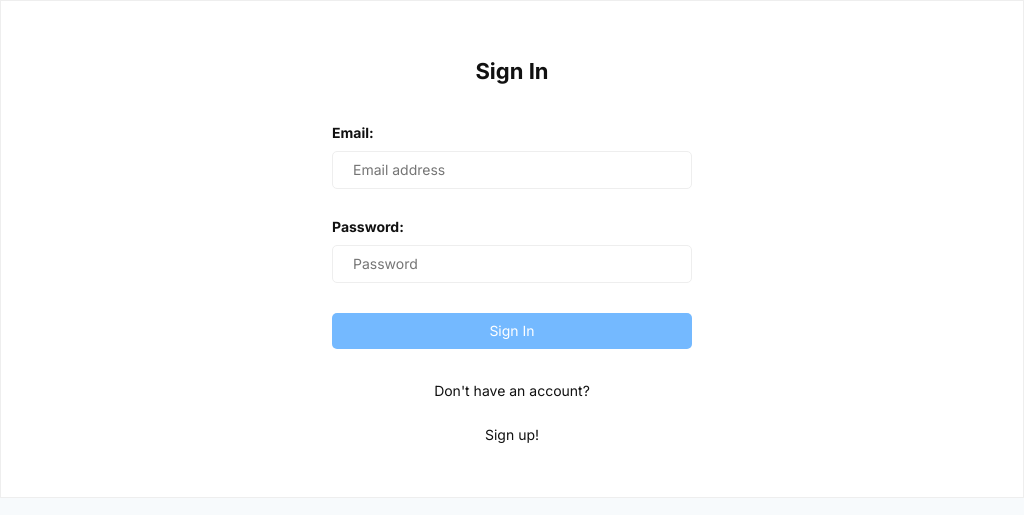
Test: AuthForm - Login variant › Shows password error warning if submitted in invalid state
The width and height of the screenshot is (1024, 515).
Type "test@test.com" into the field labelled "Email:" at (512, 170), box x1=332 y1=151 x2=692 y2=189
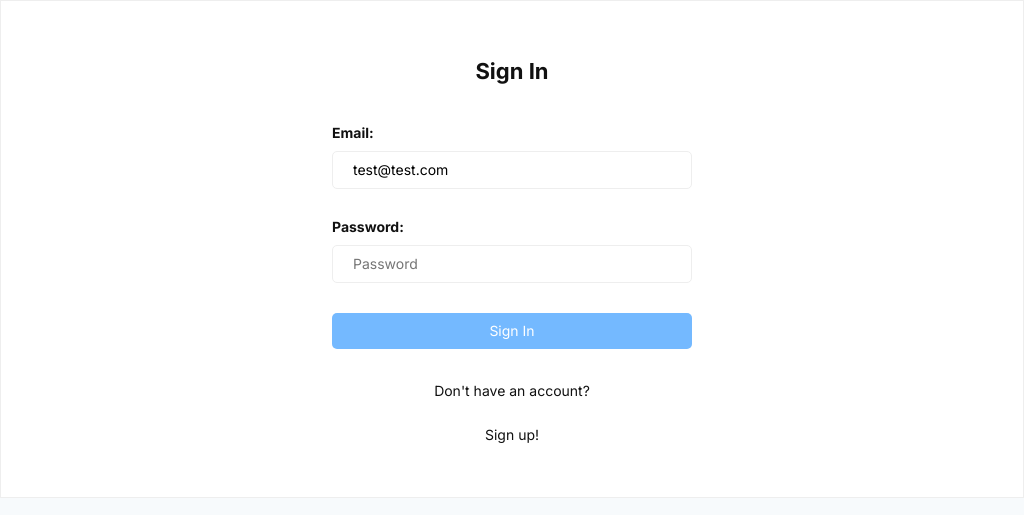
Click the button "Sign In" at (512, 331), box x1=332 y1=313 x2=692 y2=349
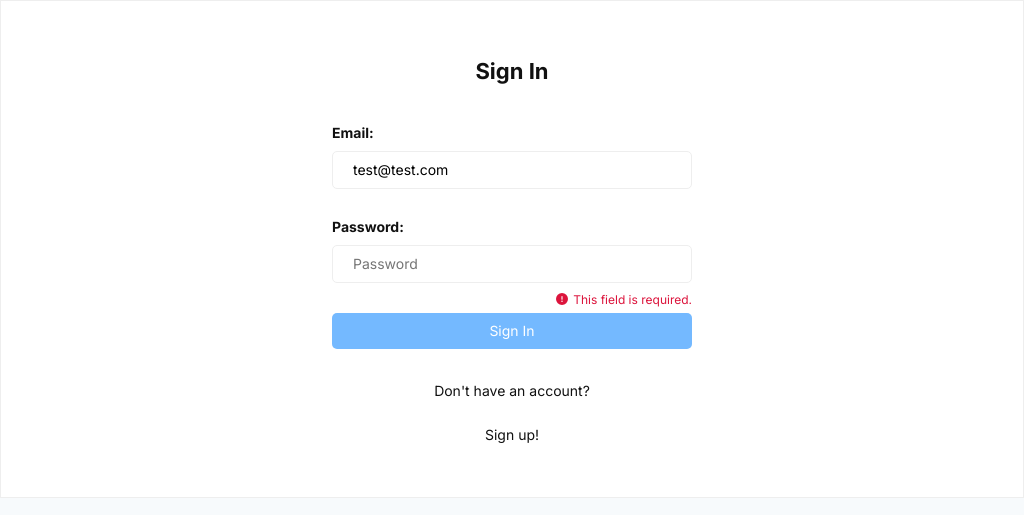
Check: the text "This field is required." is shown, box x1=556 y1=292 x2=692 y2=306
